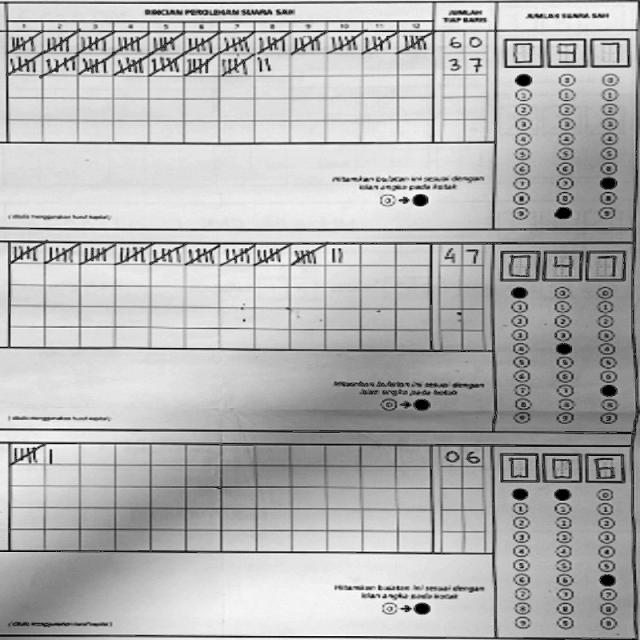Suara: (499, 32, 634, 73), (498, 243, 632, 284), (498, 447, 632, 488)
